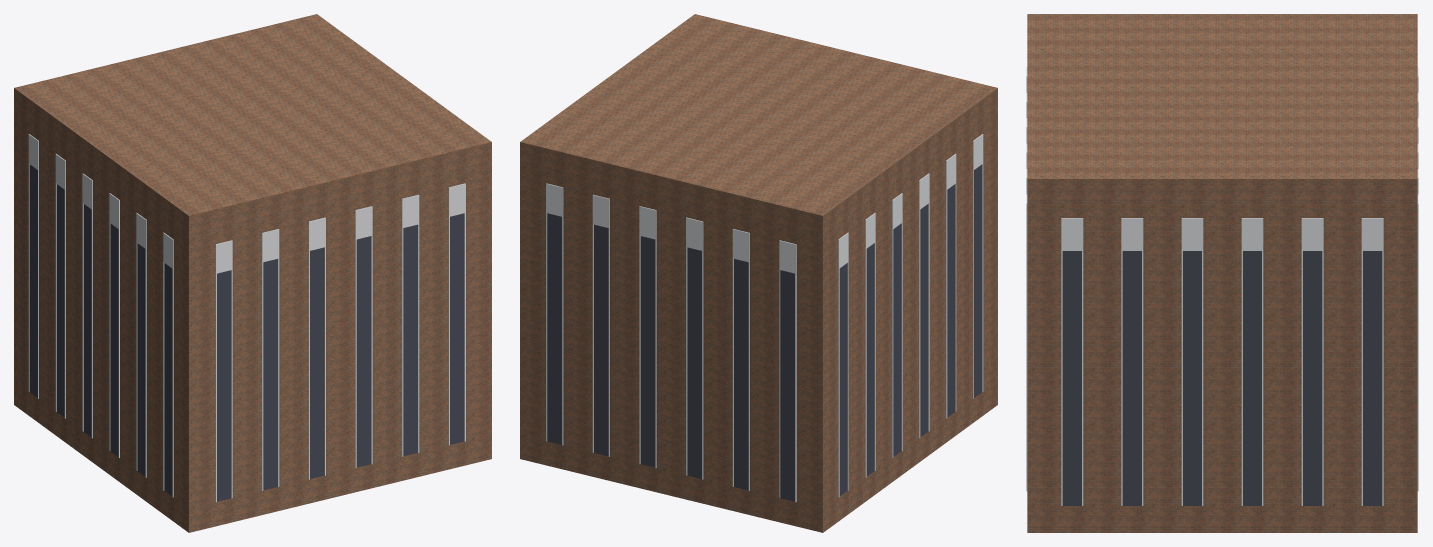
The model's file is RedBuilding.obj.
The picture shows the model from 3 angles, left to right: view 1: azimuth 30°, elevation 25°; view 2: azimuth 150°, elevation 25°; view 3: azimuth 270°, elevation 25°; orthographic projection. The views are drawn at different scales.
Bounding box in the file's own units: 13.06 × 13 × 13.06.
Materials: 6 (2 with a texture image).
